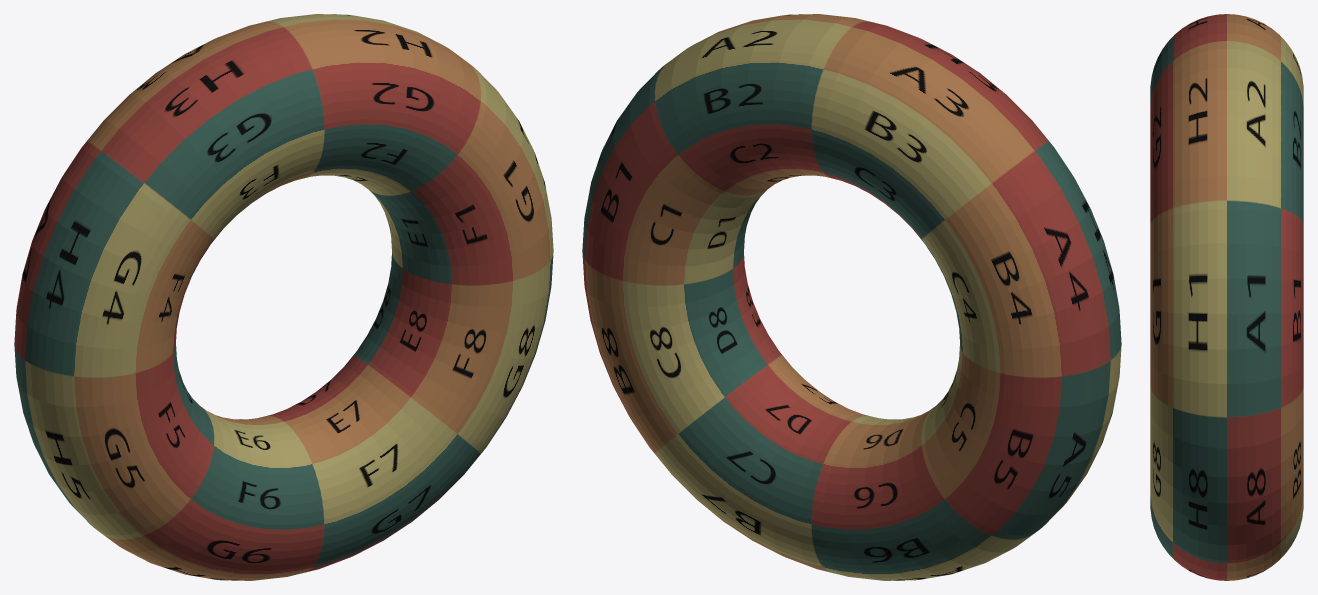
Rendered from texture_torus_R19_r24.glb.
3 views of the same model, side by side, from view 1: azimuth 30°, elevation 25°; view 2: azimuth 150°, elevation 25°; view 3: azimuth 270°, elevation 25° (orthographic). The views are drawn at different scales.
Visible parts, largest first — view 1: world; view 2: world; view 3: world.
Part boxes in pixels (x1,y1,x2,y2): world: (14,14,553,580); world: (582,14,1121,580); world: (1150,14,1303,580).
Size of the model in its own units: 31.07 by 31.01 by 8.38.
Materials: 1 (1 with a texture image).
